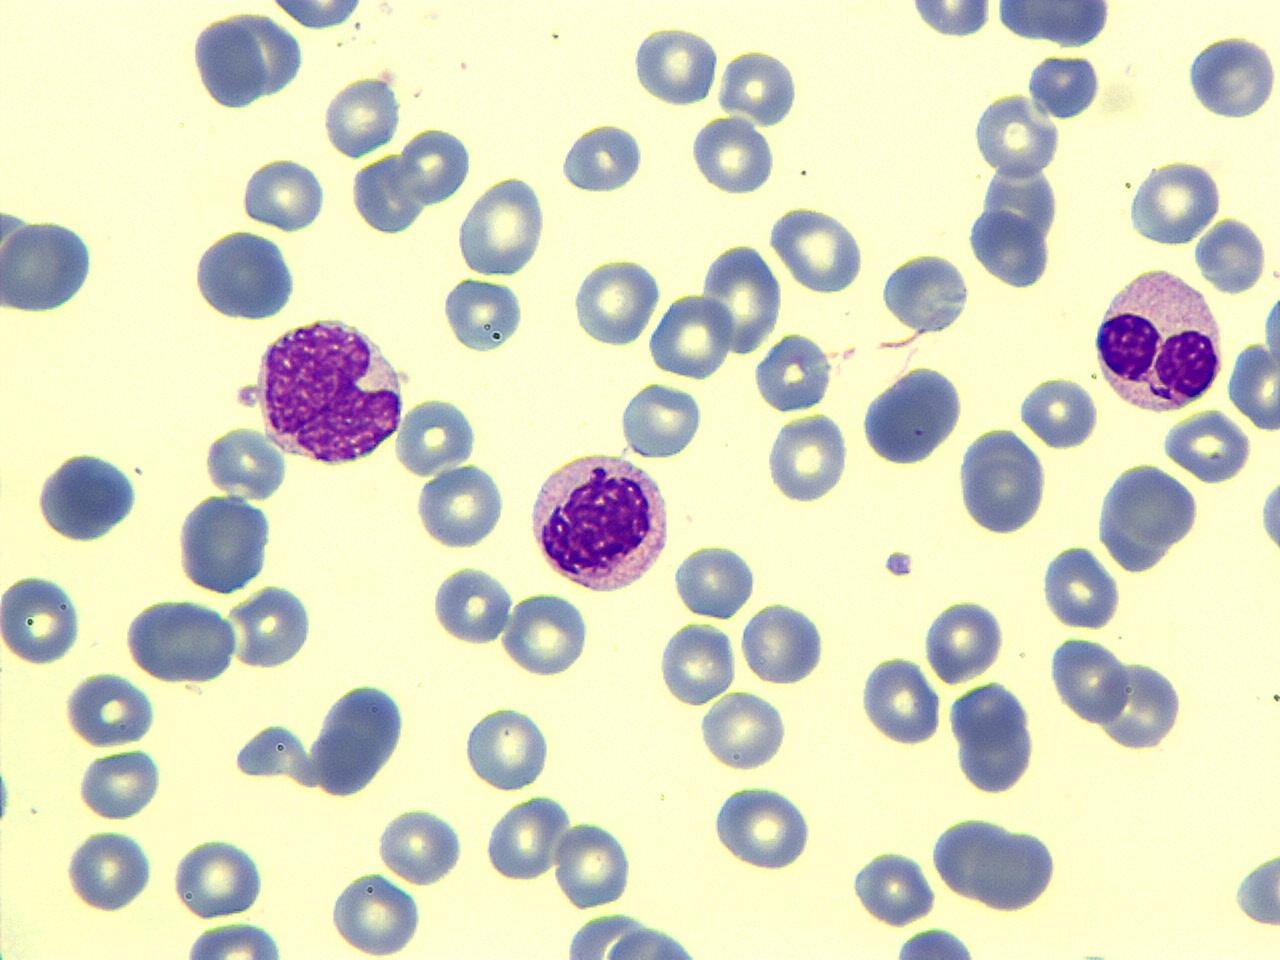Platelets: (1180, 29, 1278, 125), (441, 274, 528, 356), (716, 46, 800, 128), (559, 119, 649, 194), (1025, 52, 1105, 124), (1229, 843, 1280, 936), (887, 924, 982, 960), (1256, 470, 1280, 562), (880, 548, 916, 579), (0, 762, 16, 832)
RBC: (23, 444, 146, 557), (955, 424, 1050, 538), (121, 596, 240, 686), (698, 240, 784, 354), (456, 174, 548, 278), (711, 781, 817, 870), (1183, 23, 1277, 123), (768, 202, 866, 294), (1125, 157, 1223, 248), (570, 254, 662, 349), (60, 826, 156, 916), (328, 870, 424, 958), (972, 87, 1062, 178), (414, 460, 506, 549), (858, 650, 942, 746), (0, 570, 84, 667), (500, 588, 590, 678), (463, 702, 552, 792), (482, 791, 565, 885), (172, 834, 267, 918), (766, 410, 850, 505), (1100, 658, 1182, 754), (1048, 633, 1132, 727), (60, 670, 158, 749), (228, 582, 315, 671), (850, 842, 940, 928), (738, 600, 826, 687), (647, 290, 733, 380), (632, 22, 719, 110), (698, 688, 787, 772), (922, 595, 1006, 685), (552, 817, 632, 911), (375, 804, 465, 886), (321, 71, 403, 160), (656, 618, 738, 708), (392, 394, 481, 476), (441, 272, 526, 356), (429, 563, 513, 647), (751, 330, 835, 414), (1039, 544, 1121, 630), (200, 424, 290, 501), (690, 114, 774, 198), (1160, 408, 1252, 484), (670, 541, 756, 620), (240, 154, 327, 233), (716, 46, 798, 128), (618, 379, 701, 460), (1016, 374, 1102, 452), (74, 747, 163, 821), (560, 122, 646, 197), (1193, 212, 1269, 295), (399, 124, 474, 206), (1226, 336, 1280, 434), (169, 918, 298, 958), (904, 0, 996, 41), (265, 0, 369, 33)
WBC: (251, 311, 410, 470), (524, 446, 674, 597), (1089, 262, 1230, 417), (959, 152, 1070, 293), (300, 672, 418, 804), (1091, 459, 1203, 578), (188, 6, 309, 115), (0, 200, 104, 322), (859, 360, 969, 470), (945, 676, 1043, 798), (31, 446, 146, 548), (173, 490, 282, 596), (189, 225, 304, 324), (956, 424, 1051, 539), (122, 596, 240, 688), (953, 818, 1063, 912), (1181, 26, 1279, 121), (926, 810, 1020, 906), (547, 912, 732, 960), (878, 249, 974, 337), (988, 1, 1118, 51), (1025, 50, 1103, 123), (1231, 840, 1280, 938), (876, 924, 990, 960), (901, 0, 1000, 40), (1255, 456, 1280, 574)
